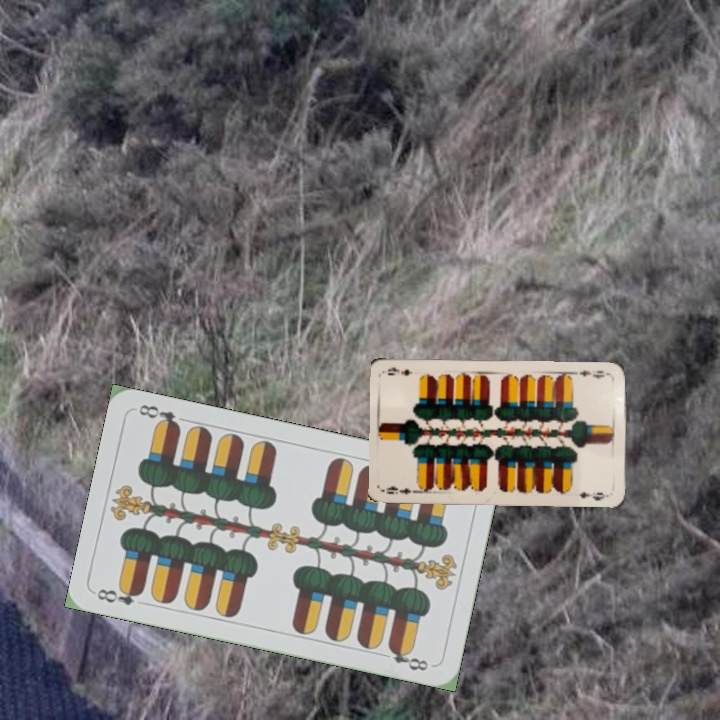E8: (93, 582, 146, 608)
E9: (382, 481, 422, 497), (575, 366, 613, 381)
